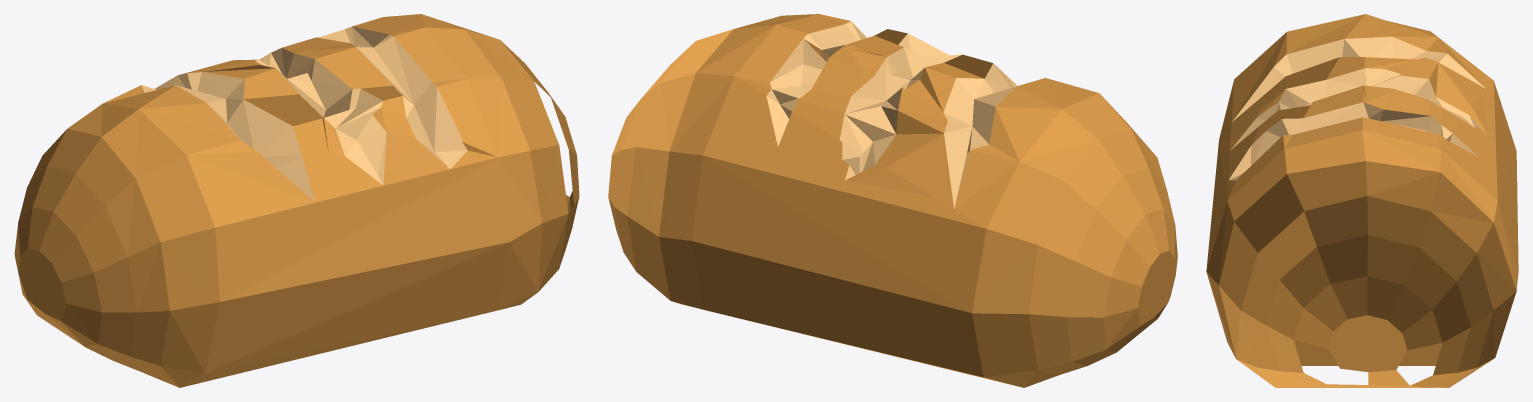
The model's file is bread.glb.
3 views of the same model, side by side, from view 1: azimuth 30°, elevation 25°; view 2: azimuth 150°, elevation 25°; view 3: azimuth 270°, elevation 25° (orthographic). The views are drawn at different scales.
Visible parts, largest first — view 1: Node; view 2: Node; view 3: Node.
Part boxes in pixels (x1,y1,x2,y2): Node: [14, 14, 579, 387]; Node: [608, 14, 1177, 387]; Node: [1206, 14, 1518, 387].
Bounding box in the file's own units: 0.3228 × 0.15 × 0.18.
